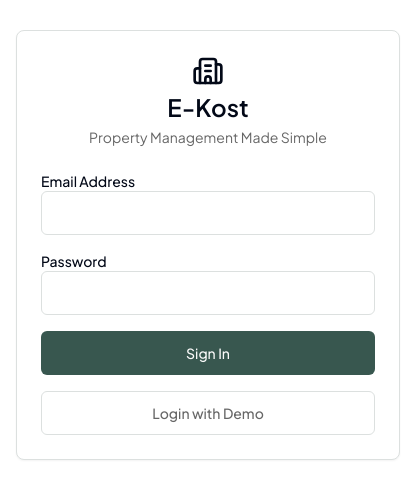
Test: LoginForm › bad cases › shows validation error when email is invalid
Type "not-email" into the field labelled "Email Address" at (208, 213), box [41,191,375,235]
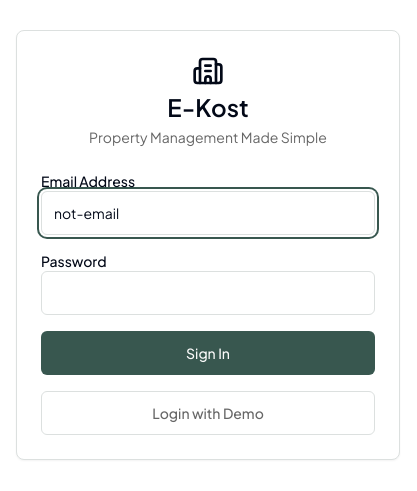
Type "password123" into the password field labelled "Password" at (208, 293), box [41,271,375,315]
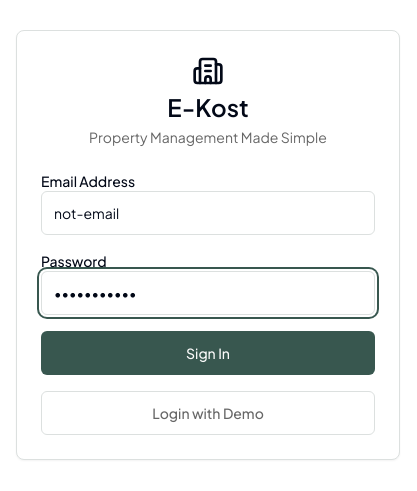
Click the button "Sign In" at (208, 353), box [41,331,375,375]
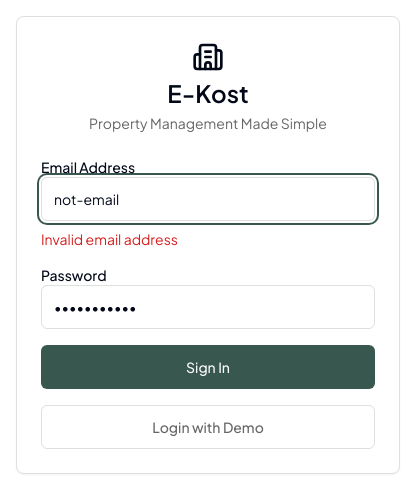
Expected: the text "Invalid email address" is shown, [41,230,178,248]
